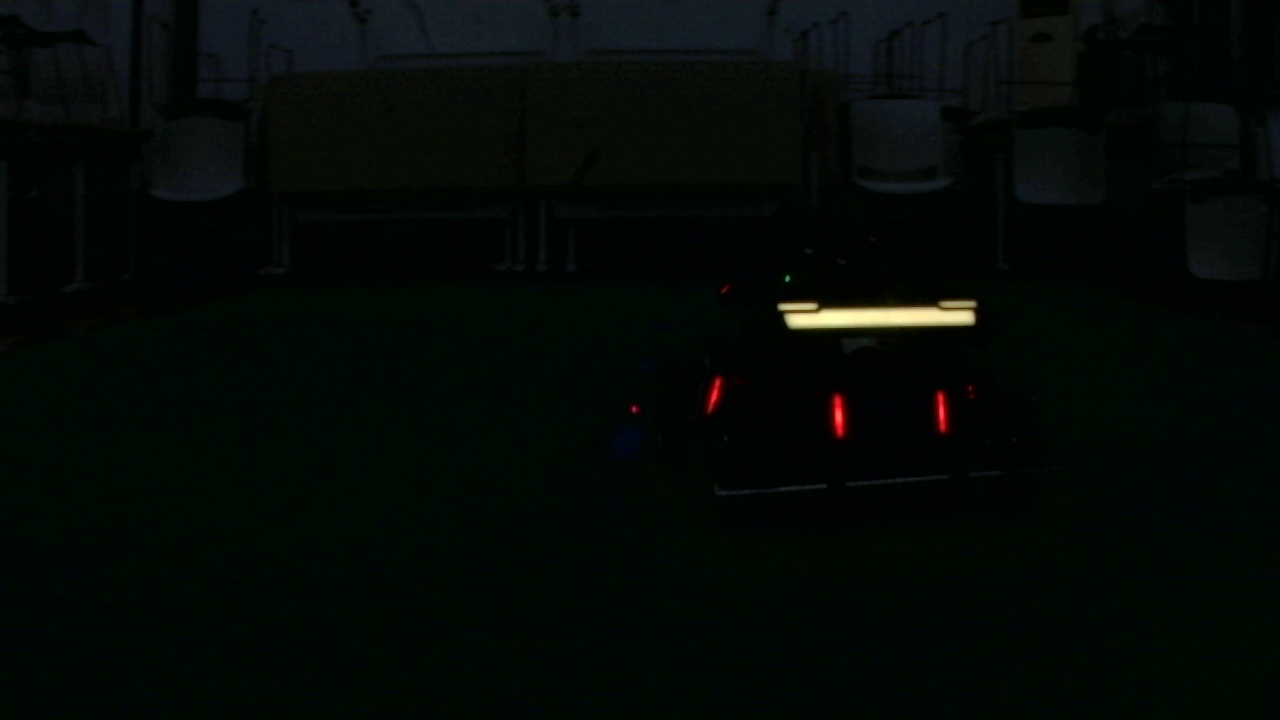lamp: (825, 390, 848, 445), (936, 385, 950, 437)
notpair1: (702, 370, 850, 453)
pair1: (827, 388, 953, 442)
